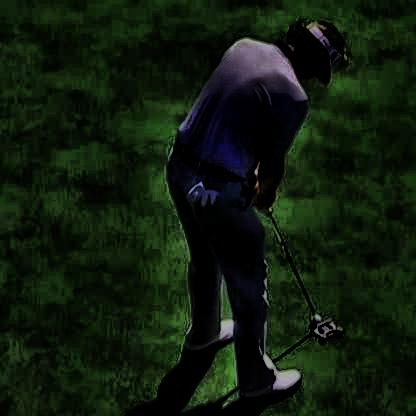golfball: (307, 314, 320, 321)
